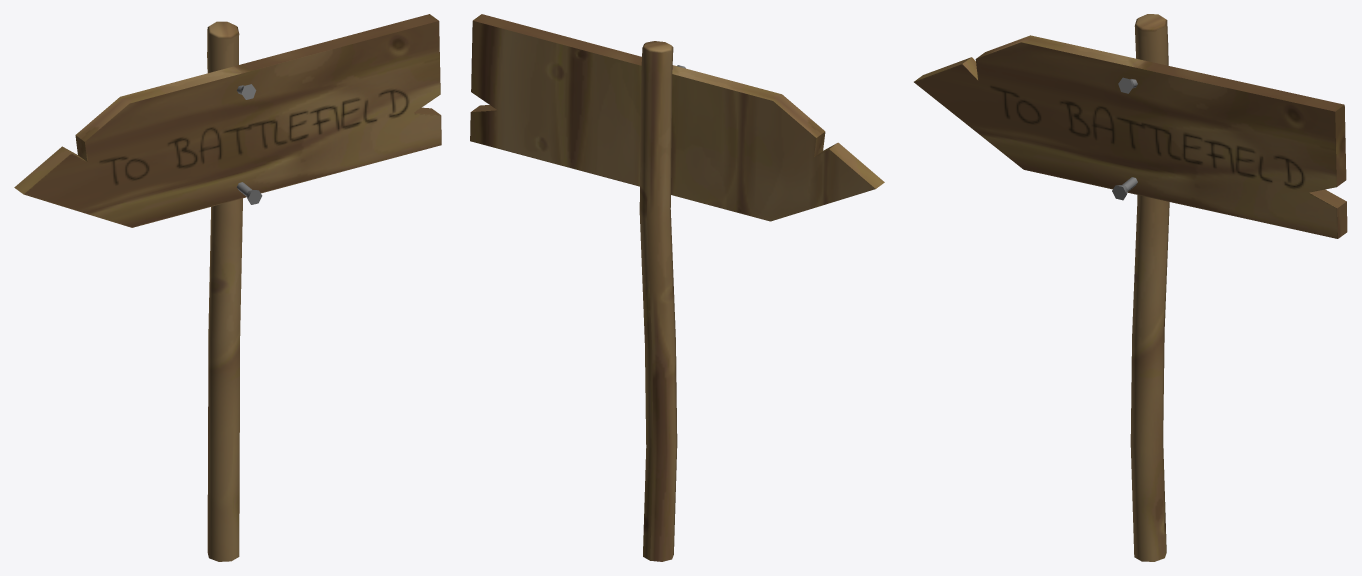
File: SignToBattlefield.fbx
3 renders of one model, left to right at view 1: azimuth 30°, elevation 25°; view 2: azimuth 150°, elevation 25°; view 3: azimuth 330°, elevation 25°, orthographic. The views are drawn at different scales.
Parts seen in each view (by area): view 1: SignToBattleField; view 2: SignToBattleField; view 3: SignToBattleField.
Part boxes in pixels (x1,y1,x2,y2): SignToBattleField: (14,14,441,561); SignToBattleField: (470,14,884,561); SignToBattleField: (914,14,1347,561).
Bounding box in the file's own units: 73.12 × 88.23 × 12.28.
